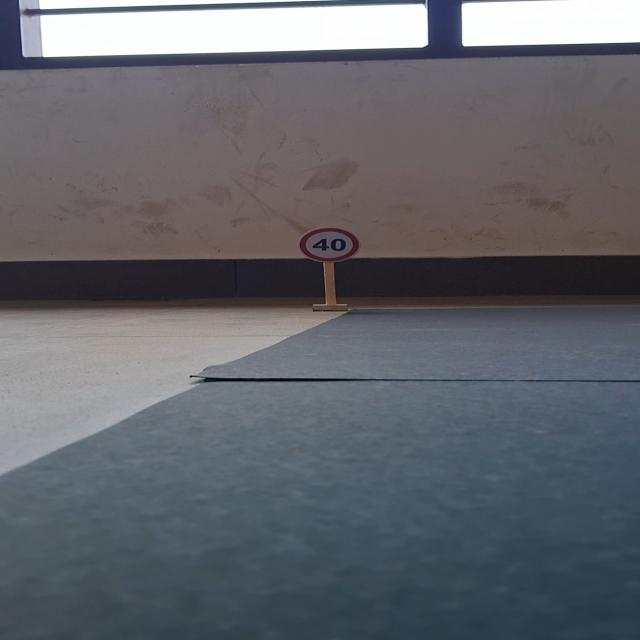Speed40: (299, 222, 370, 264)
